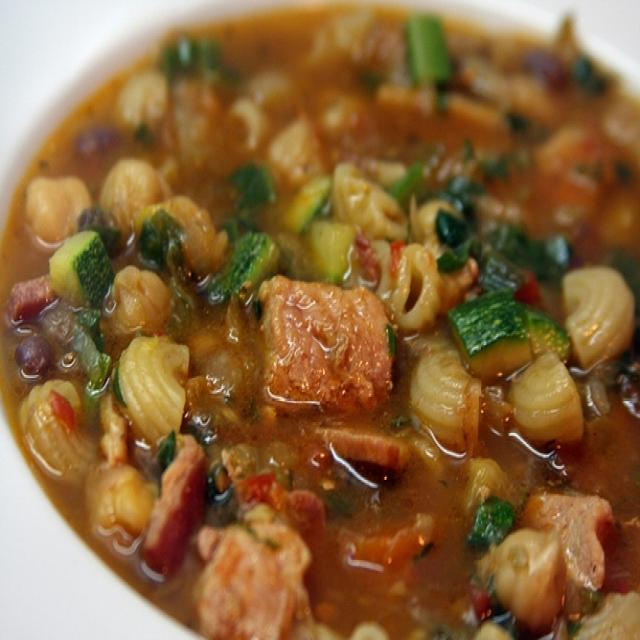汤锅炖物: (11, 12, 630, 626)
